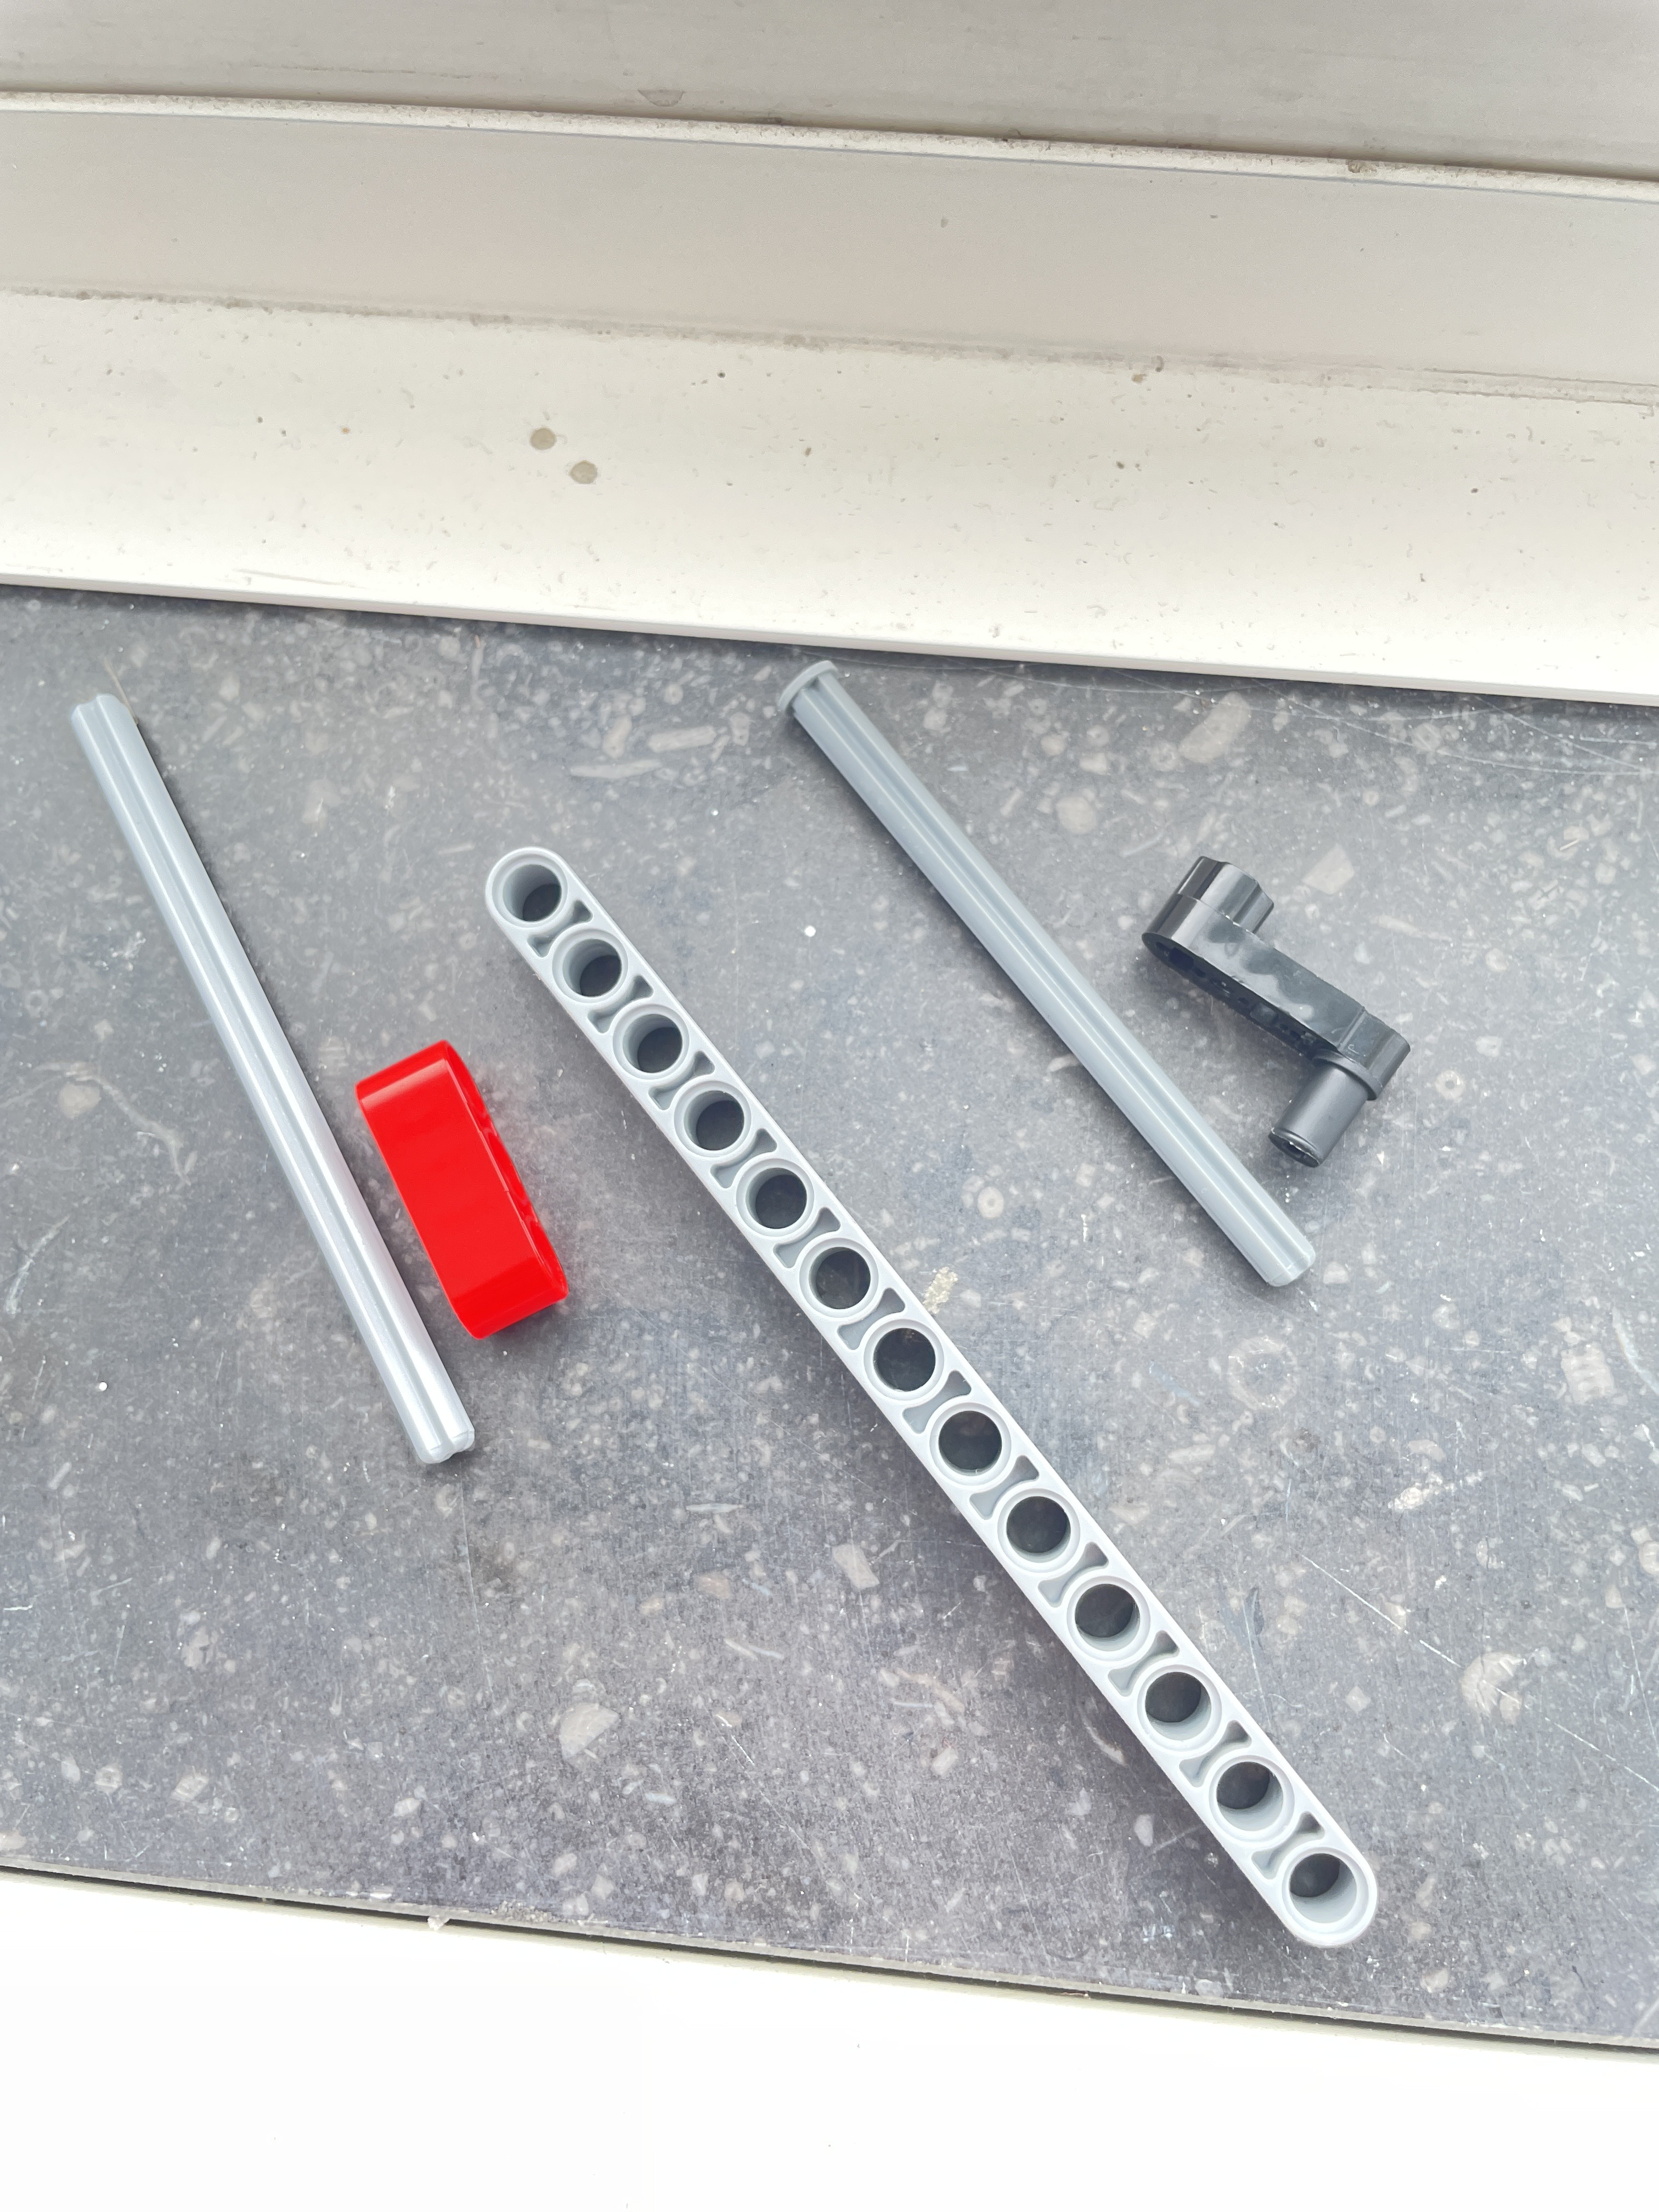13gat: (476, 834, 1385, 1959)
3gat: (347, 1031, 587, 1348)
plusstaaf: (64, 688, 486, 1475)
plusstaafdicht: (758, 655, 1326, 1306)
verbindstukzwart: (1143, 852, 1417, 1169)
